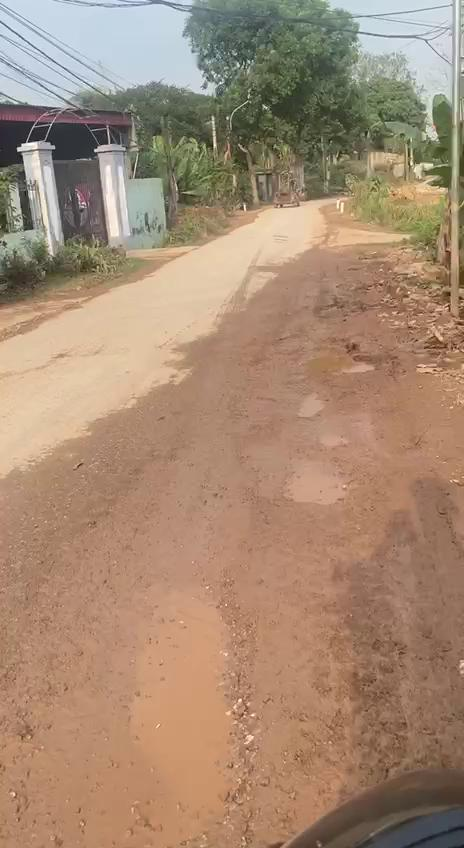pothole: (132, 582, 240, 832), (279, 467, 351, 512), (308, 349, 384, 379), (298, 384, 325, 422)
